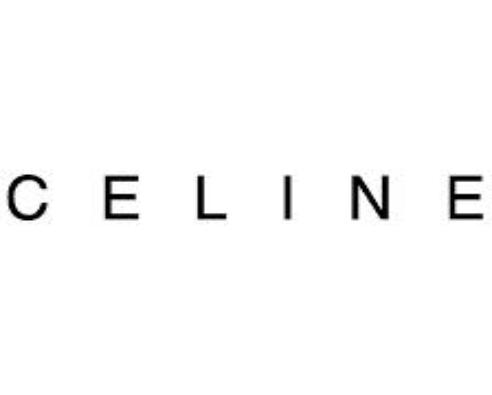CELINE: (4, 158, 492, 241)
